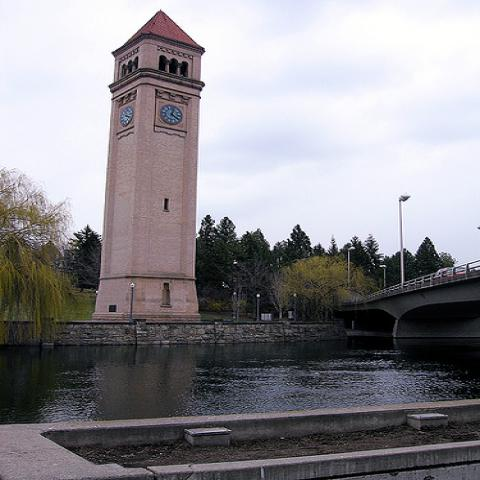car: (434, 267, 478, 280)
